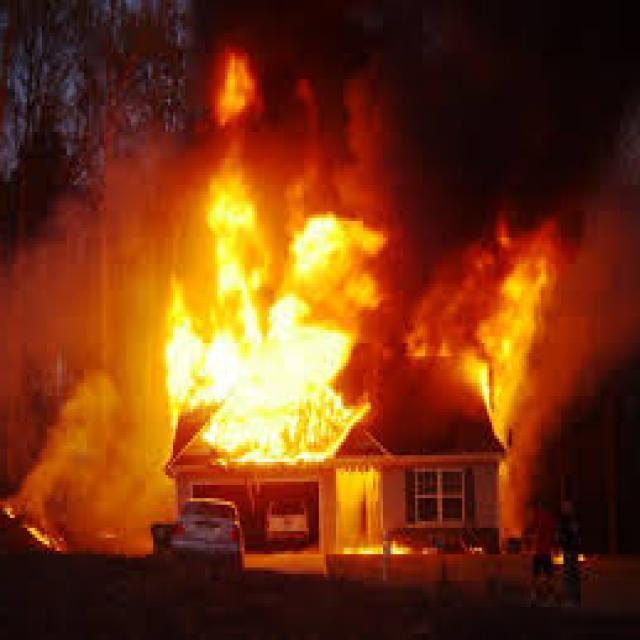Fire: (166, 198, 344, 387), (436, 249, 546, 411)
Smoke: (28, 238, 146, 526)
